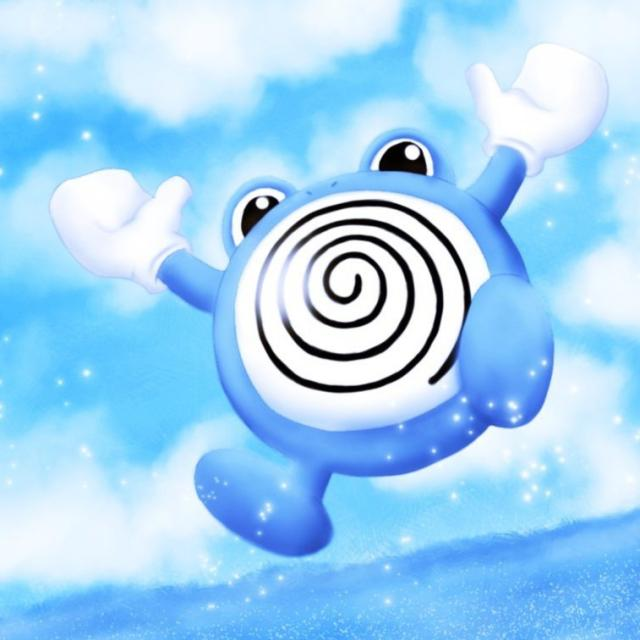Poliwhirl: (136, 79, 556, 543)
